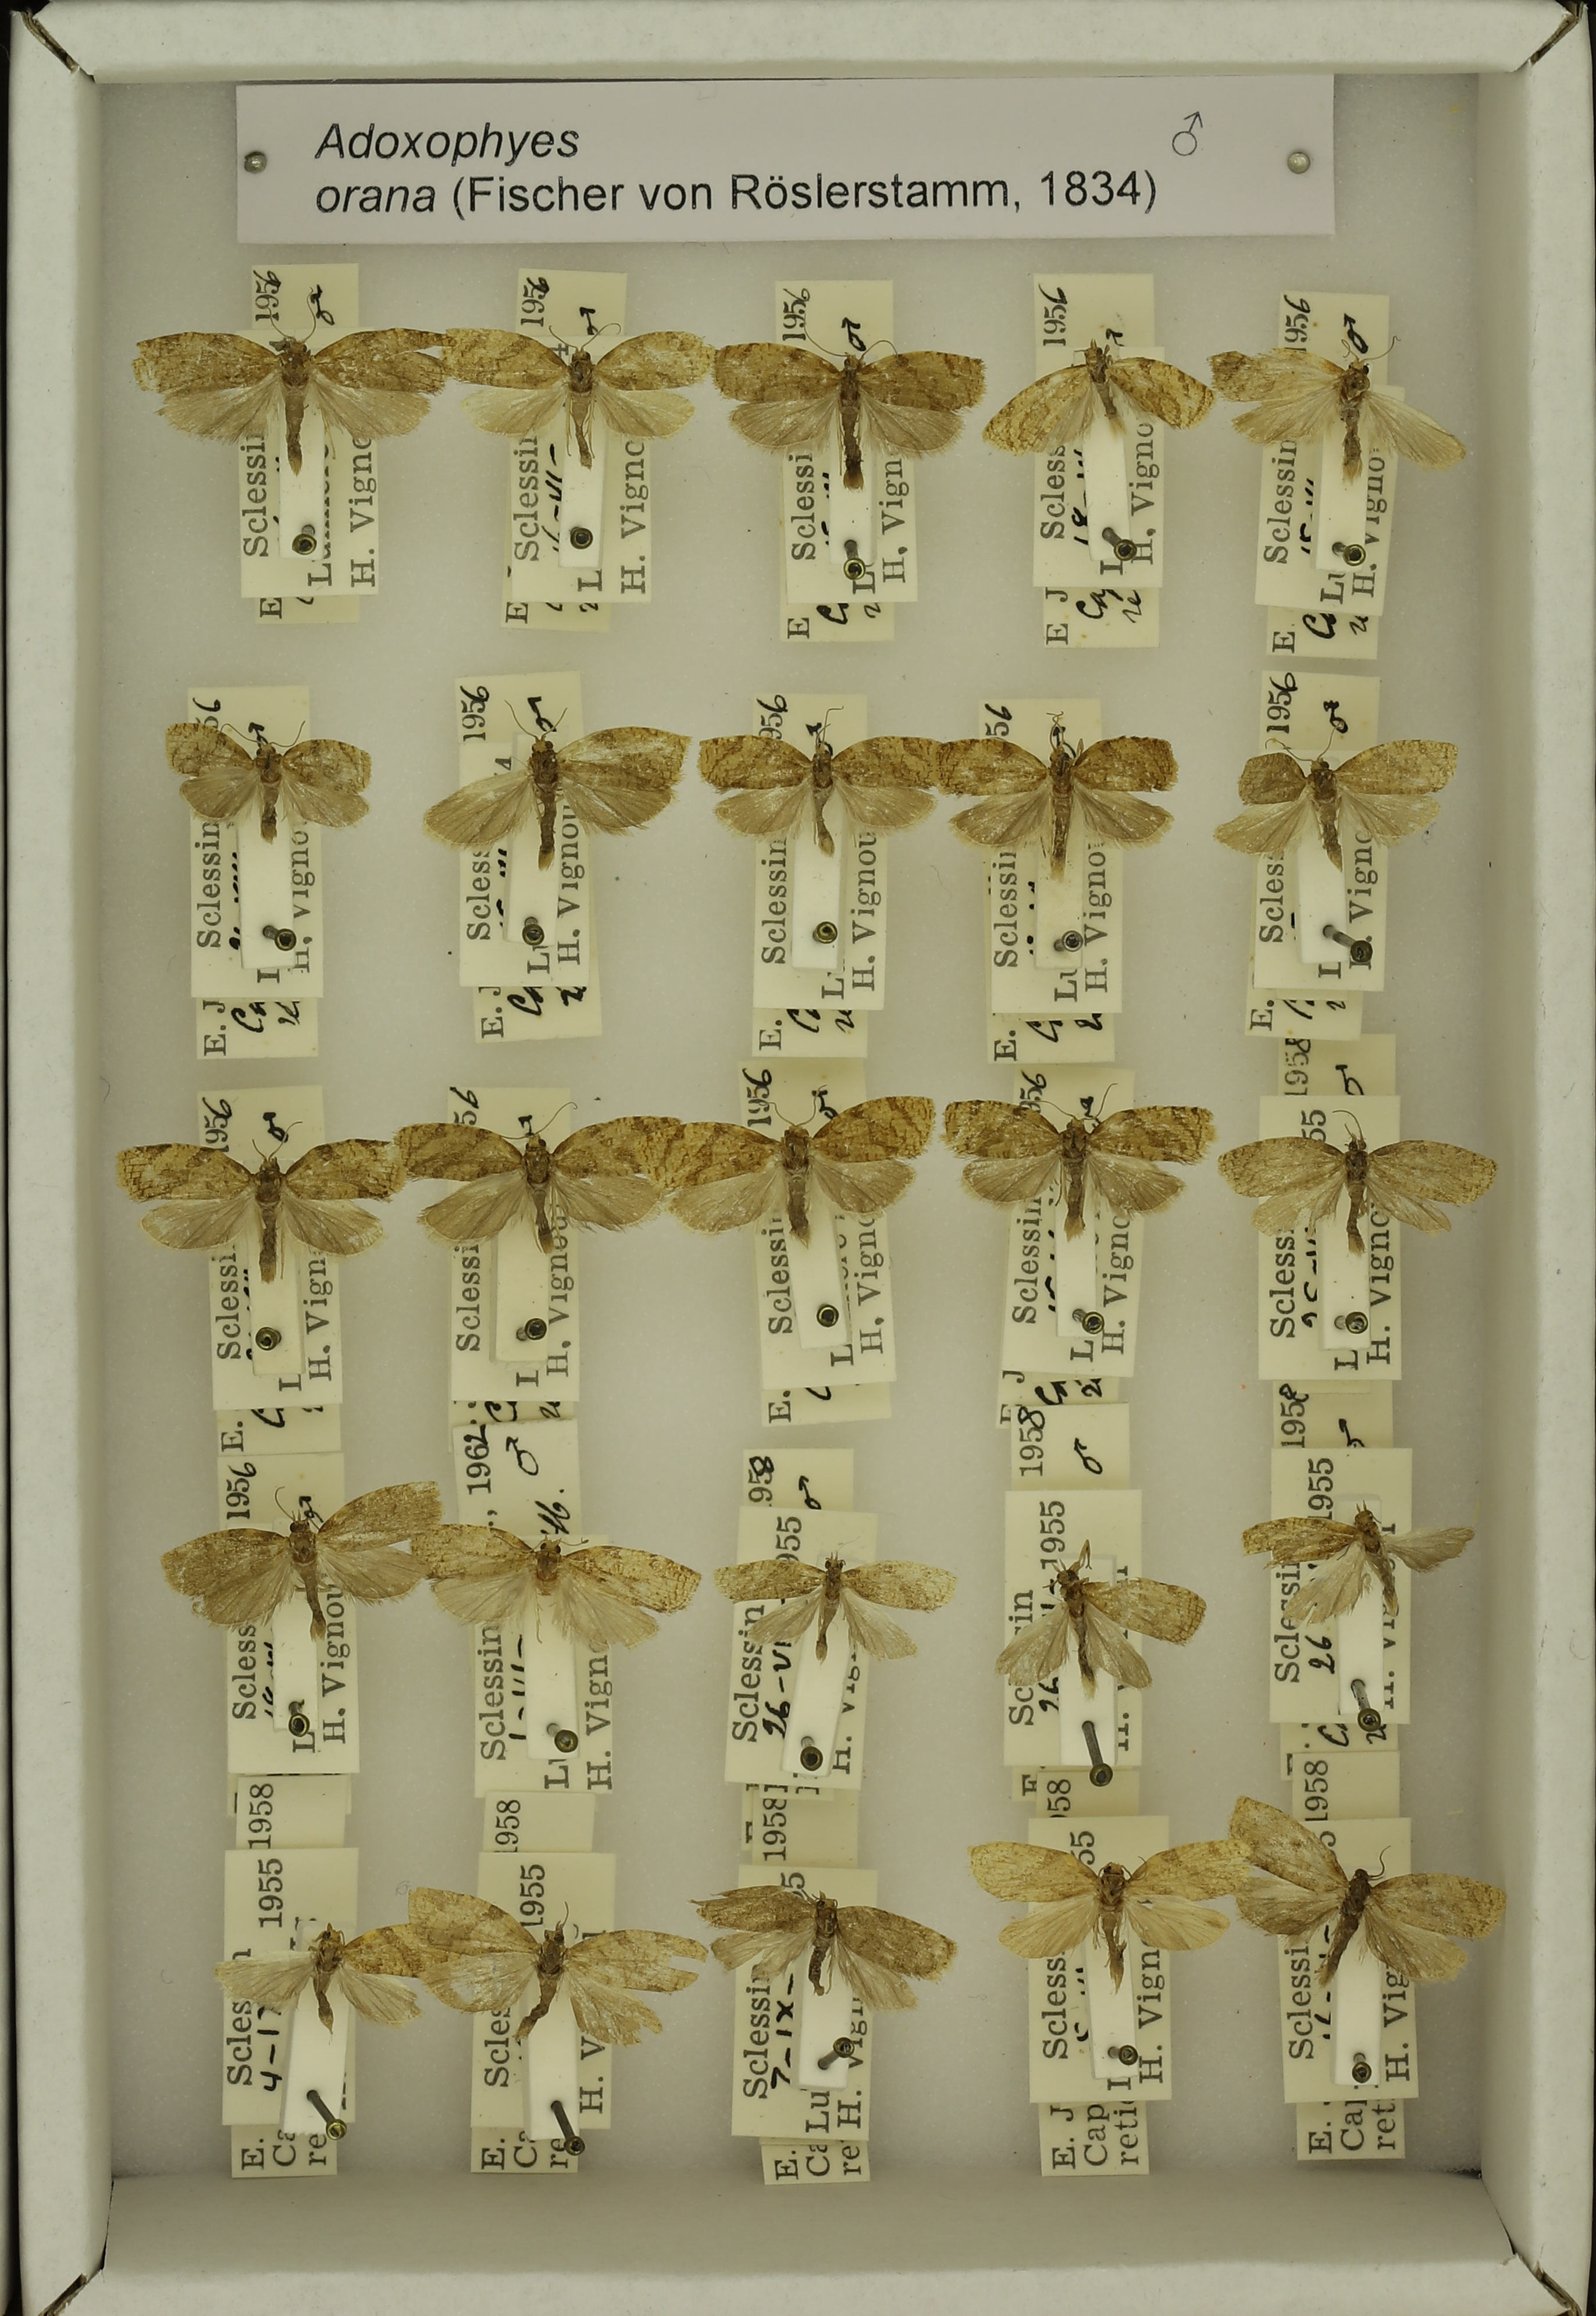insect: (1223, 1779, 1506, 2019), (405, 1883, 714, 2075), (116, 294, 450, 463), (641, 1084, 945, 1260), (144, 1473, 443, 1647), (102, 1125, 415, 1285), (966, 1827, 1265, 1992), (417, 699, 699, 868), (394, 1103, 692, 1260), (438, 311, 718, 472), (713, 336, 1003, 487), (1209, 326, 1478, 487), (936, 1077, 1216, 1232), (685, 1871, 961, 2026), (933, 711, 1184, 878), (1209, 732, 1468, 885), (695, 704, 945, 861), (403, 1524, 700, 1653), (1219, 1123, 1504, 1255), (1237, 1496, 1487, 1644), (991, 1535, 1209, 1698), (975, 329, 1228, 466), (150, 707, 389, 852), (209, 1909, 429, 2031), (707, 1552, 959, 1656)
